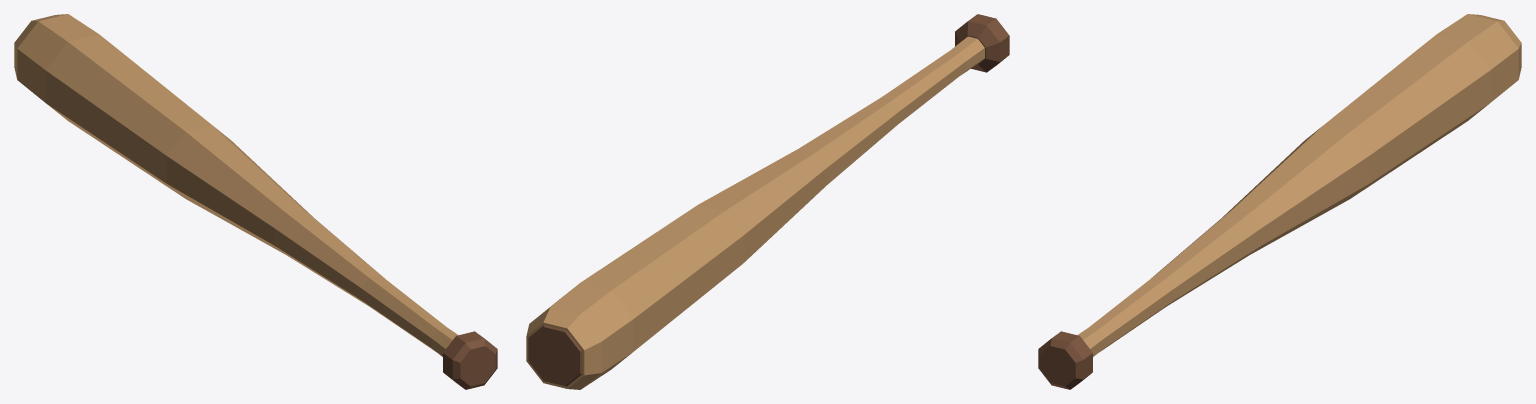
The model's file is baseball_bat.glb.
3 renders of one model, left to right at view 1: azimuth 30°, elevation 25°; view 2: azimuth 150°, elevation 25°; view 3: azimuth 330°, elevation 25°, orthographic.
Visible parts, largest first — view 1: Wood_body_0, Handle_knob_1; view 2: Wood_body_0, End_grain_2, Handle_knob_1; view 3: Wood_body_0, Handle_knob_1.
Part boxes in pixels (bbox=[...]): Wood_body_0: bbox=[14, 14, 458, 356]; Handle_knob_1: bbox=[443, 331, 497, 389]; Wood_body_0: bbox=[526, 36, 984, 389]; End_grain_2: bbox=[528, 325, 582, 386]; Handle_knob_1: bbox=[955, 14, 1009, 72]; Wood_body_0: bbox=[1077, 14, 1521, 356]; Handle_knob_1: bbox=[1038, 331, 1092, 389].
Bounding box in the file's own units: 0.0868 × 0.0868 × 0.867.
